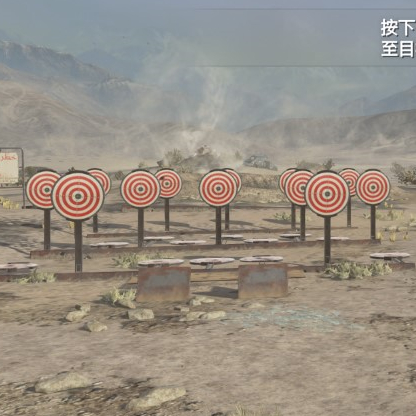target: (50, 169, 105, 222), (304, 170, 350, 218), (120, 169, 161, 209), (198, 169, 237, 207), (355, 168, 391, 206), (25, 170, 51, 210), (284, 169, 304, 207)
